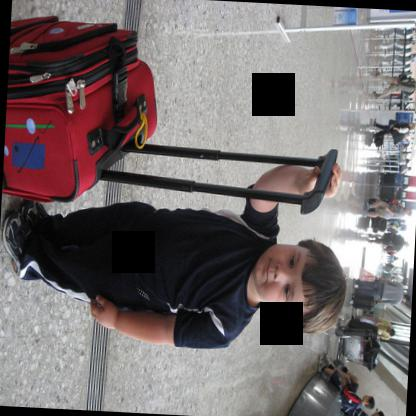backpack: (392, 234, 403, 245), (402, 89, 414, 95)
handbag: (388, 123, 408, 145), (388, 118, 394, 128)
suitcase: (7, 17, 157, 200), (347, 318, 376, 338), (351, 292, 375, 309), (369, 217, 386, 232), (378, 172, 393, 185), (376, 186, 392, 198), (367, 198, 377, 212), (373, 133, 382, 146)
